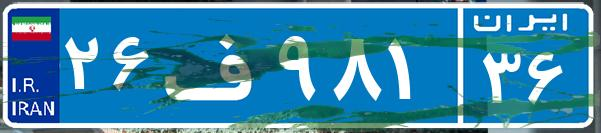1: (385, 28, 445, 110)
2: (57, 26, 110, 107)
3: (475, 38, 525, 113)
6: (110, 28, 158, 105), (525, 38, 570, 115)
8: (330, 28, 385, 110)
9: (273, 28, 330, 110)
ف: (158, 15, 273, 115)
